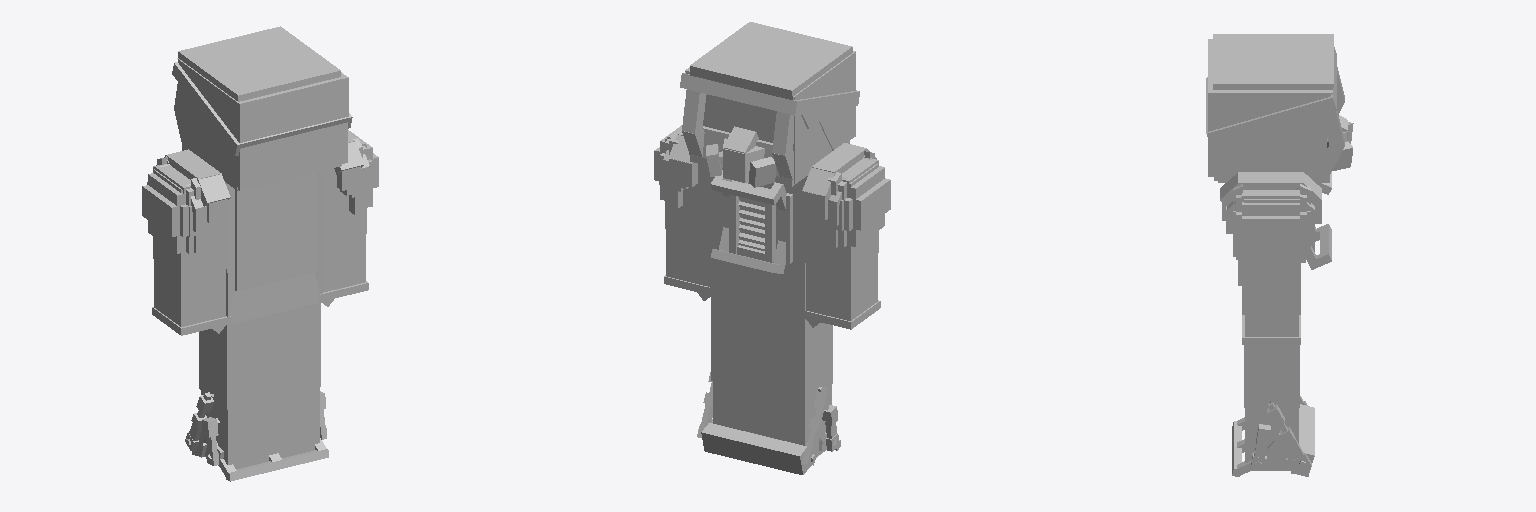
File: spacesuit.obj
3 renders of one model, left to right at view 1: azimuth 30°, elevation 25°; view 2: azimuth 150°, elevation 25°; view 3: azimuth 270°, elevation 25°, orthographic.
Parts seen in each view (by area): view 1: G, L2, Gru, L3, P3, P2; view 2: G, L2, Gru, L3, P3, P2; view 3: G, P2, P3, Gru, L3.
Boxes of the visible parts, <box> form: G: <box>172,26,352,190</box>; L2: <box>142,149,230,335</box>; Gru: <box>226,171,321,324</box>; L3: <box>185,315,284,481</box>; P3: <box>269,303,328,470</box>; P2: <box>319,130,378,306</box>; G: <box>680,22,859,187</box>; L2: <box>802,143,890,329</box>; Gru: <box>710,170,805,318</box>; L3: <box>748,307,840,474</box>; P3: <box>697,296,761,463</box>; P2: <box>654,125,710,300</box>; G: <box>1206,34,1353,182</box>; P2: <box>1220,172,1321,344</box>; P3: <box>1232,345,1314,476</box>; Gru: <box>1238,172,1331,314</box>; L3: <box>1232,396,1314,452</box>.
Size of the model in its own units: 1.81 by 3.31 by 1.12.